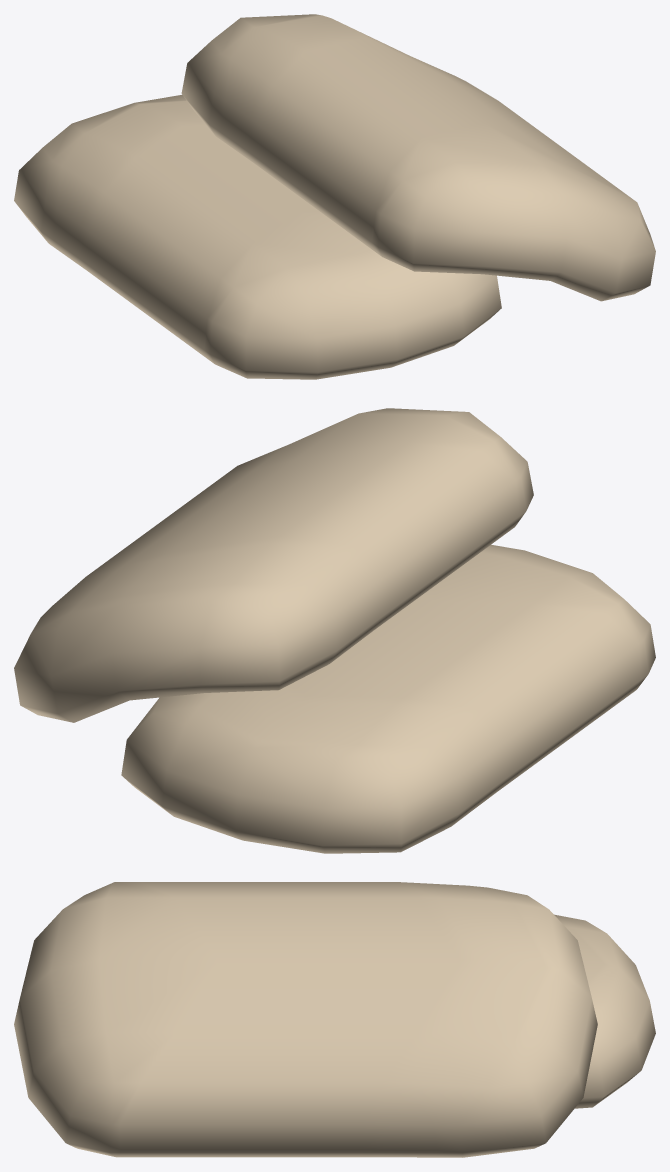
The model's file is fish_fillet.glb.
3 views of the same model, one above another, from view 1: azimuth 30°, elevation 25°; view 2: azimuth 150°, elevation 25°; view 3: azimuth 270°, elevation 25° (orthographic). The views are drawn at different scales.
Parts seen in each view (by area): view 1: FoodIngredient_FishFillet; view 2: FoodIngredient_FishFillet; view 3: FoodIngredient_FishFillet.
Boxes of the visible parts, <box> form: FoodIngredient_FishFillet: <box>14,14,655,379</box>; FoodIngredient_FishFillet: <box>14,408,655,853</box>; FoodIngredient_FishFillet: <box>14,882,655,1157</box>.
Size of the model in its own units: 0.6622 by 0.2796 by 0.8608.
Materials: 1 (1 with a texture image).
